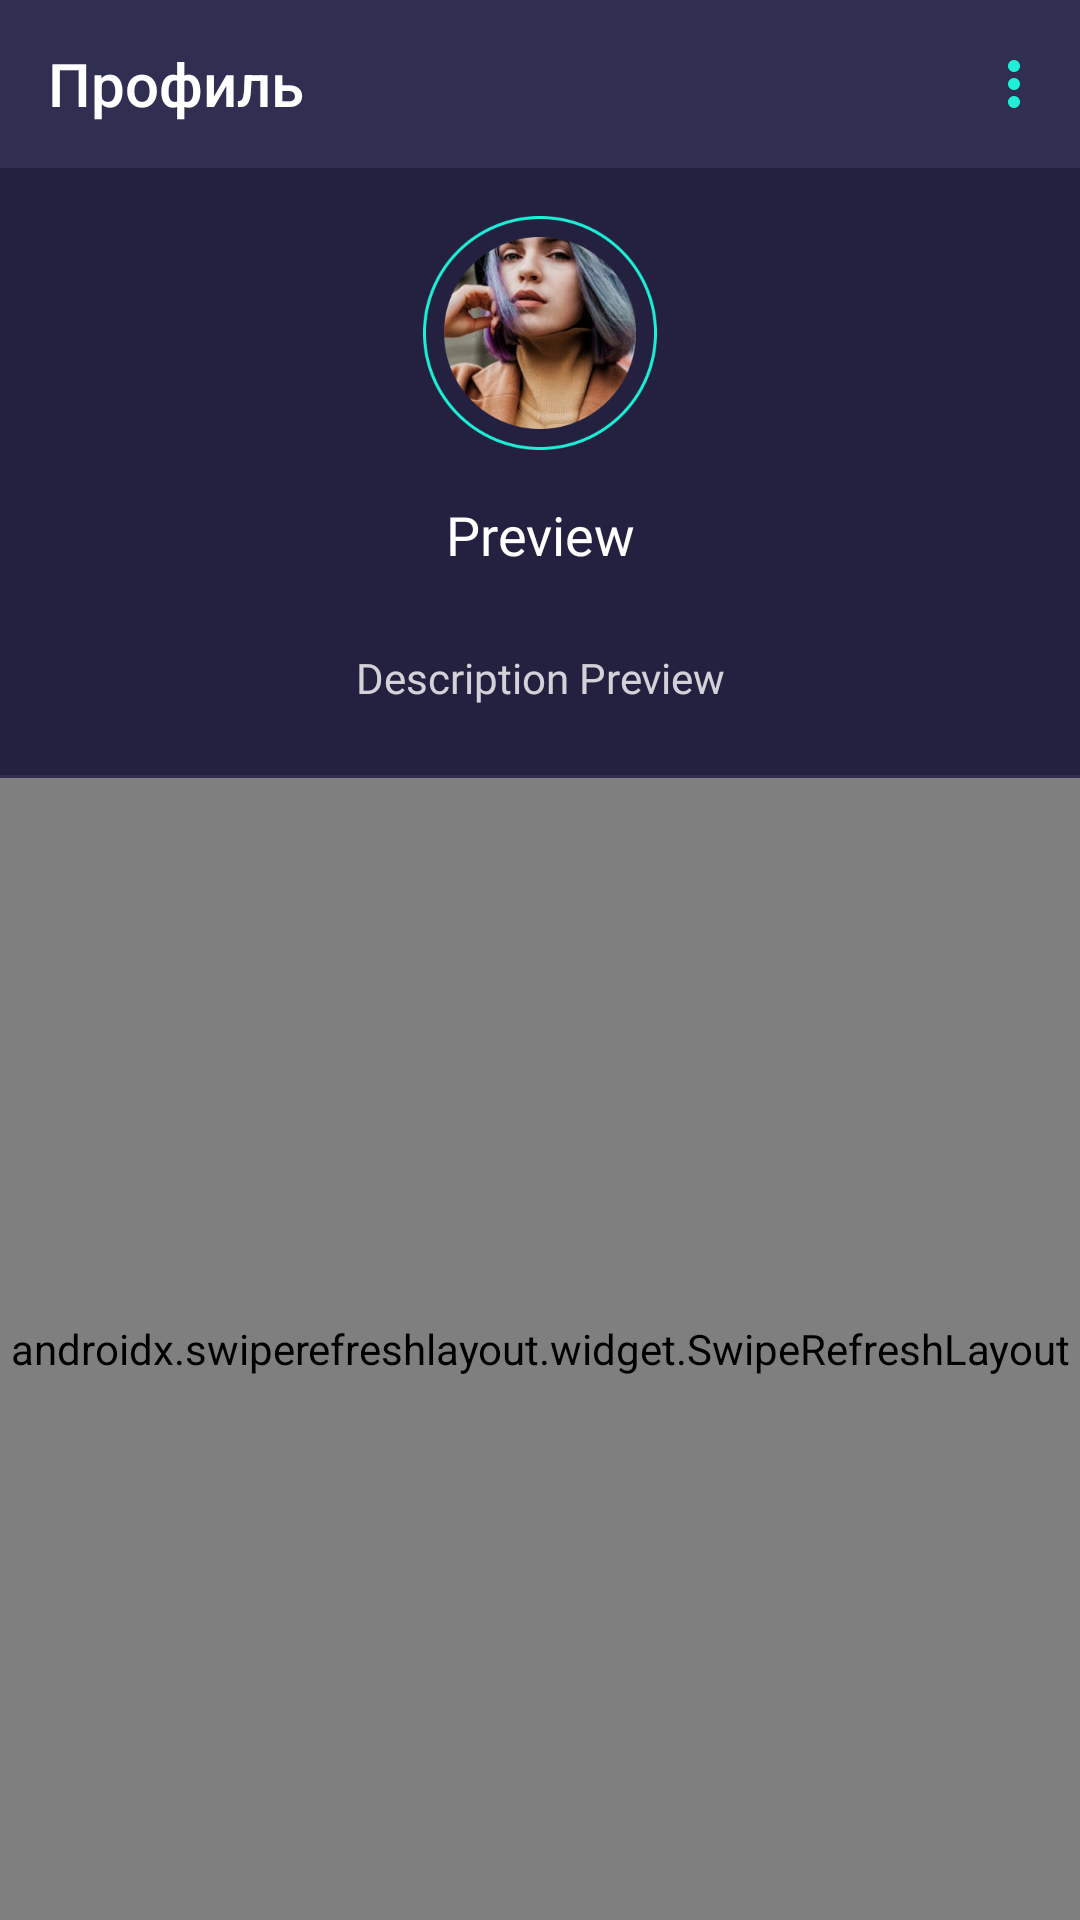

Named icons in this screenshot (1080px x 1920px) and their centers, (x,y):
def profile pic: (540,333)
